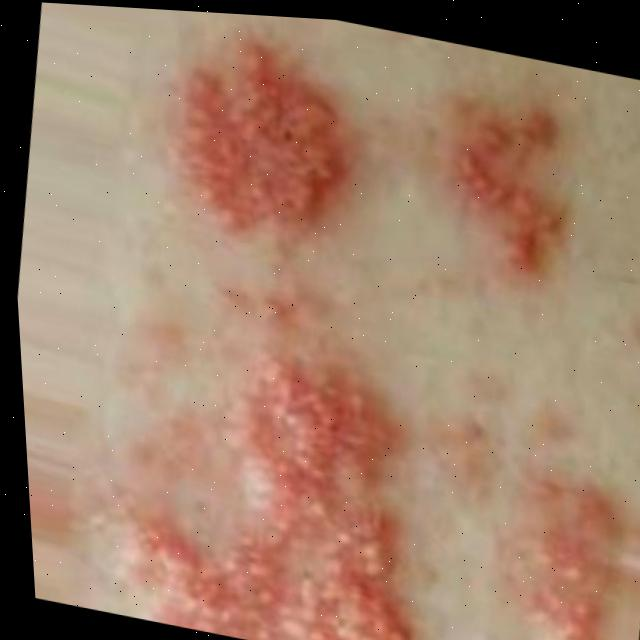Shingles: (56, 18, 640, 640)
